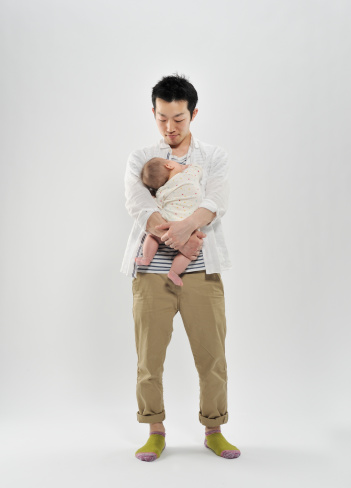em pe: (108, 90, 238, 461)
